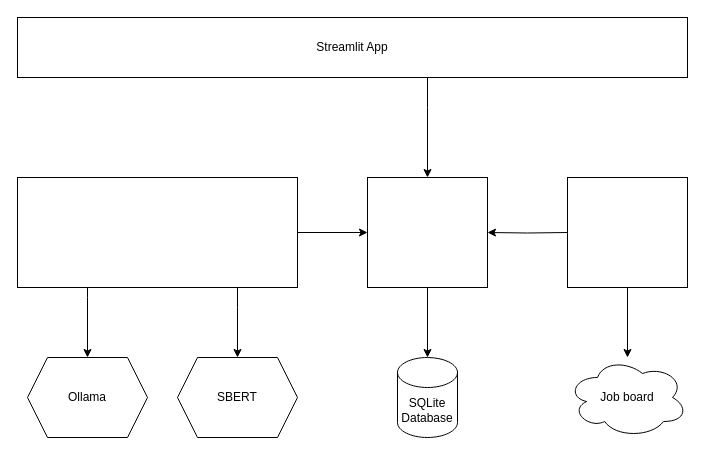
The diagram is 705 pixels wide and 455 high, and some of its shapes have lost their labels. Here are the shapes that lost their labels. From the top down, the box of each, then its label:
(16, 176, 298, 288): Processing backend (Summarize, Embed, Compare, Generate CV)
(366, 176, 488, 288): Data Manager
(566, 176, 688, 288): Scrapper
